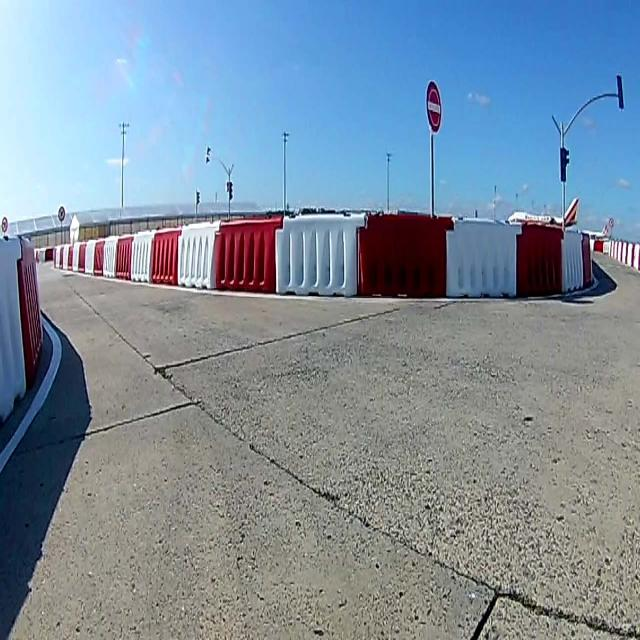girisyok: (427, 79, 441, 133)
